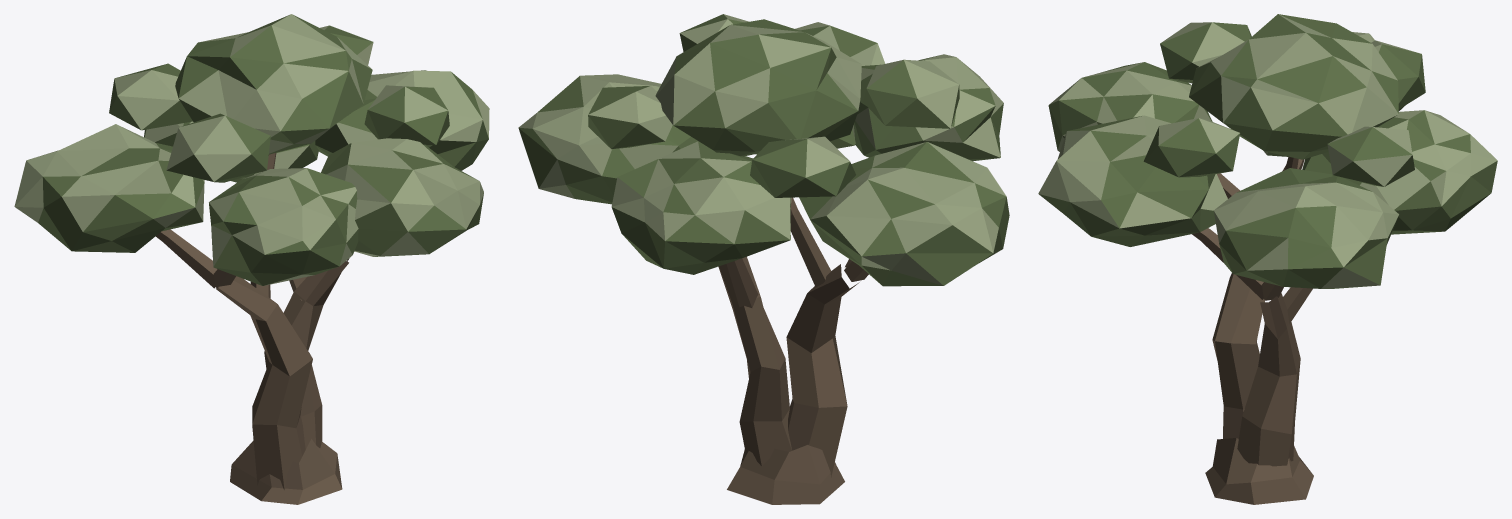
The model's file is olive-tree.glb.
3 views of the same model, side by side, from view 1: azimuth 30°, elevation 25°; view 2: azimuth 150°, elevation 25°; view 3: azimuth 270°, elevation 25° (orthographic). The views are drawn at different scales.
Visible parts, largest first — view 1: olive-tree; view 2: olive-tree; view 3: olive-tree.
Part boxes in pixels (bbox=[...]): olive-tree: bbox=[14, 14, 489, 504]; olive-tree: bbox=[518, 14, 1009, 504]; olive-tree: bbox=[1038, 14, 1497, 504].
Bounding box in the file's own units: 4.99 × 4.67 × 4.3.
